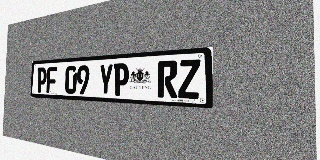0: (65, 65, 77, 94)
9: (76, 65, 90, 95)
F: (46, 67, 57, 93)
P: (113, 63, 129, 96), (37, 67, 47, 93)
R: (157, 60, 178, 98)
Y: (98, 64, 113, 95)
Z: (178, 59, 200, 99)
